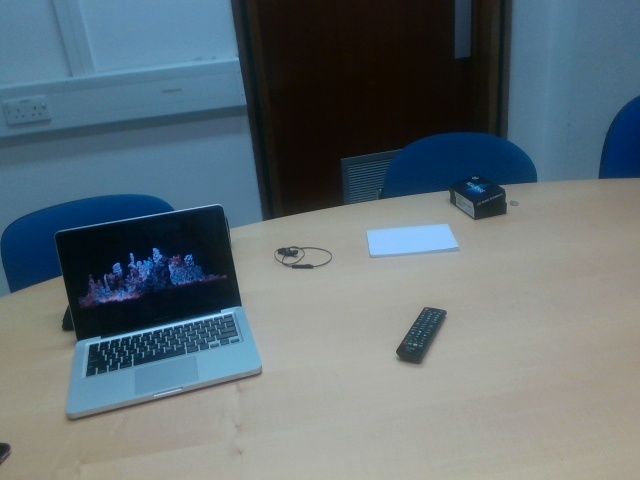remote: (394, 307, 448, 364)
